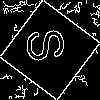S: (25, 25, 75, 64)
